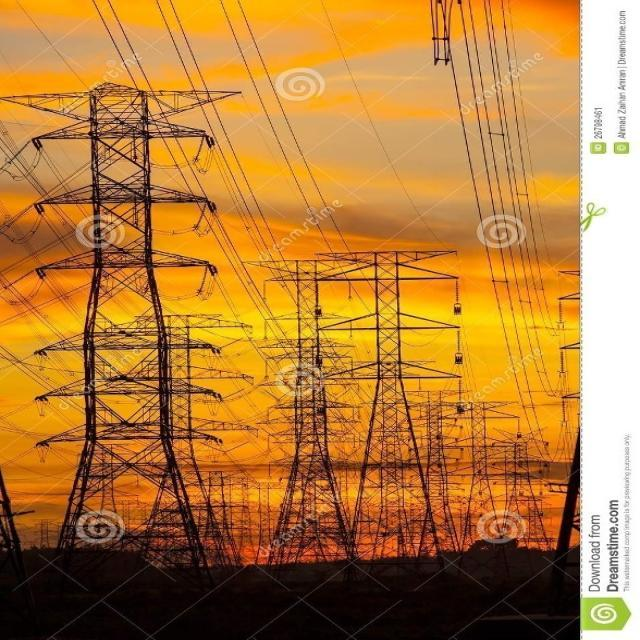non-critical vegetation: (2, 76, 236, 578), (320, 242, 463, 560), (247, 250, 368, 564)
